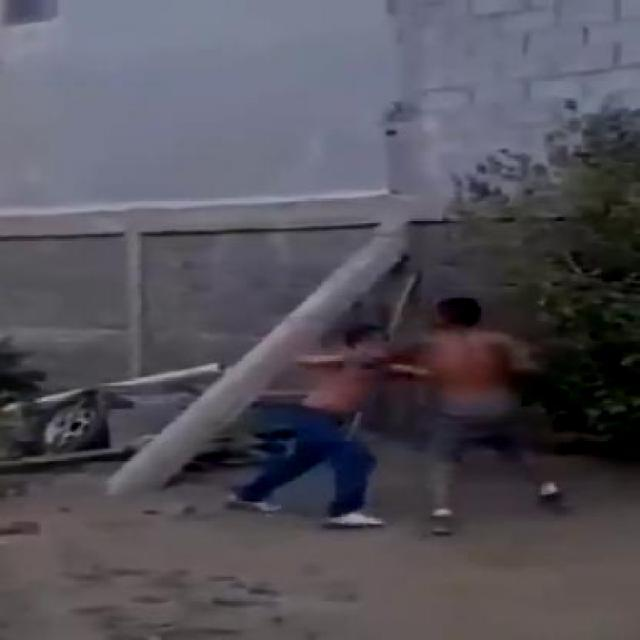fight: (282, 298, 544, 520)
